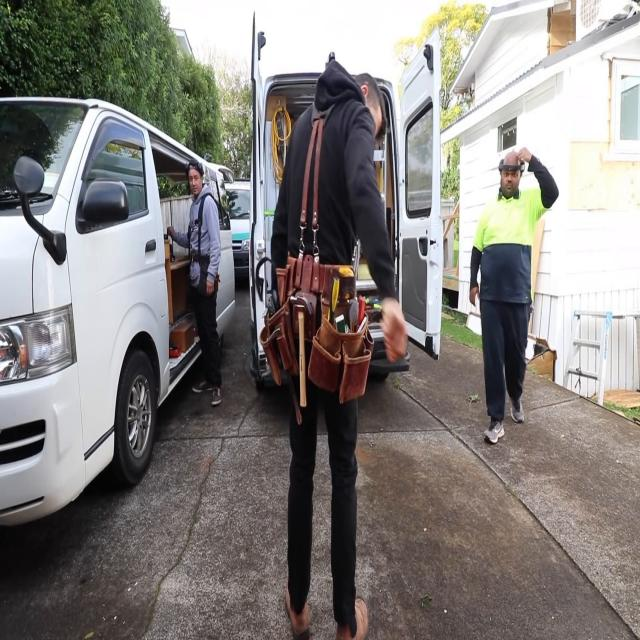hammer: (290, 295, 313, 406)
